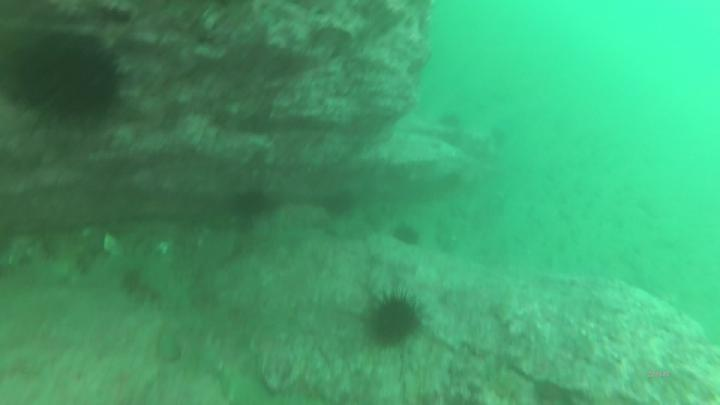echinus: (1, 29, 123, 134), (360, 288, 427, 353), (227, 188, 269, 222), (319, 189, 354, 222), (387, 221, 423, 251), (437, 112, 464, 130)
